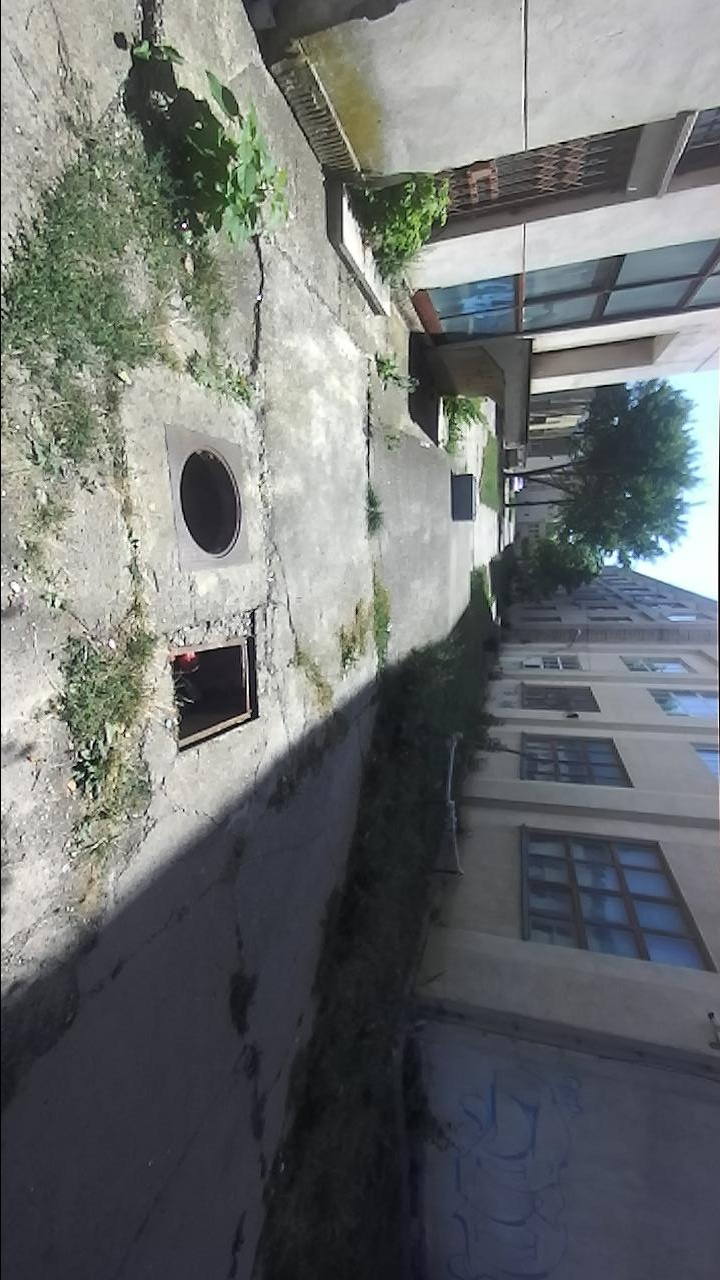drain: (170, 609, 263, 746), (178, 442, 243, 563)
